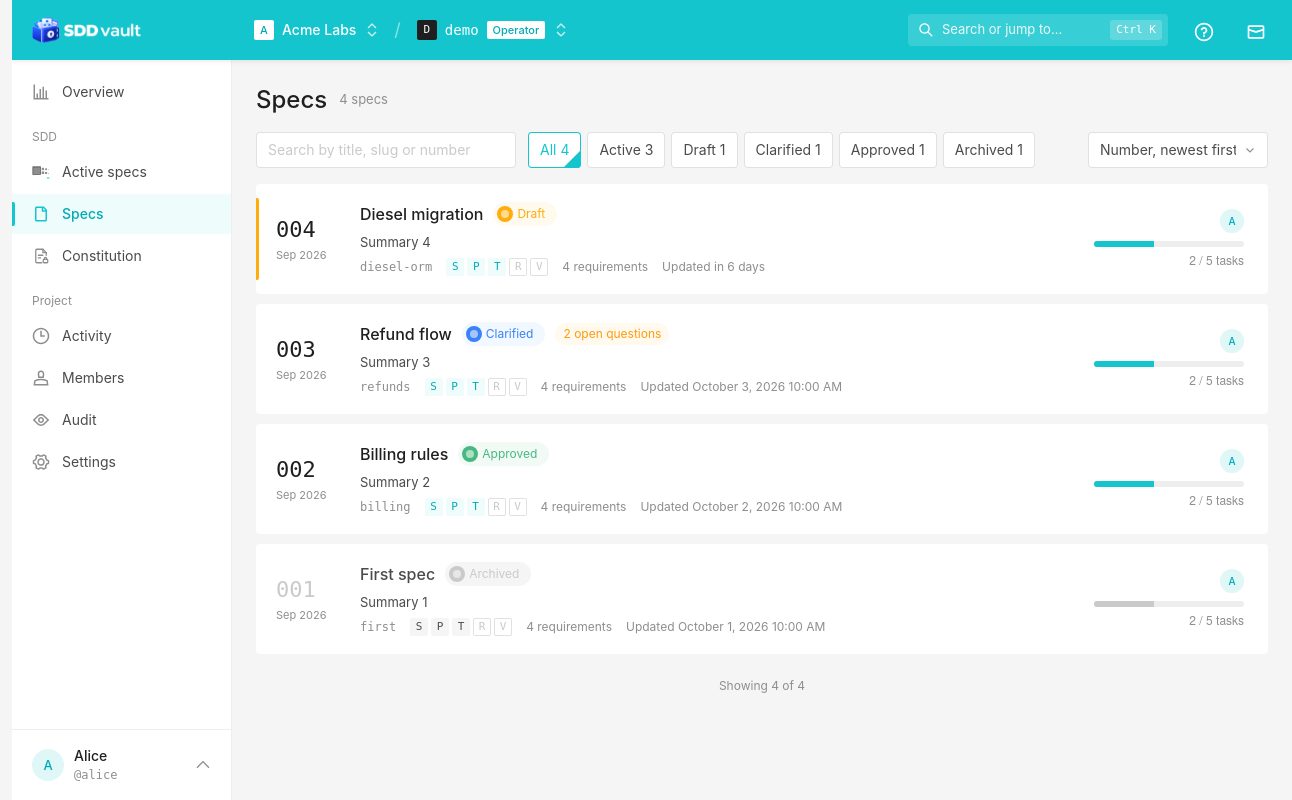
Test case: a status chip narrows the list and the active chip hides archived specs
Expected: the heading "Specs" is shown, [256,84,327,116]
Click the button "Active 3" at (626, 150), box [587,132,665,168]
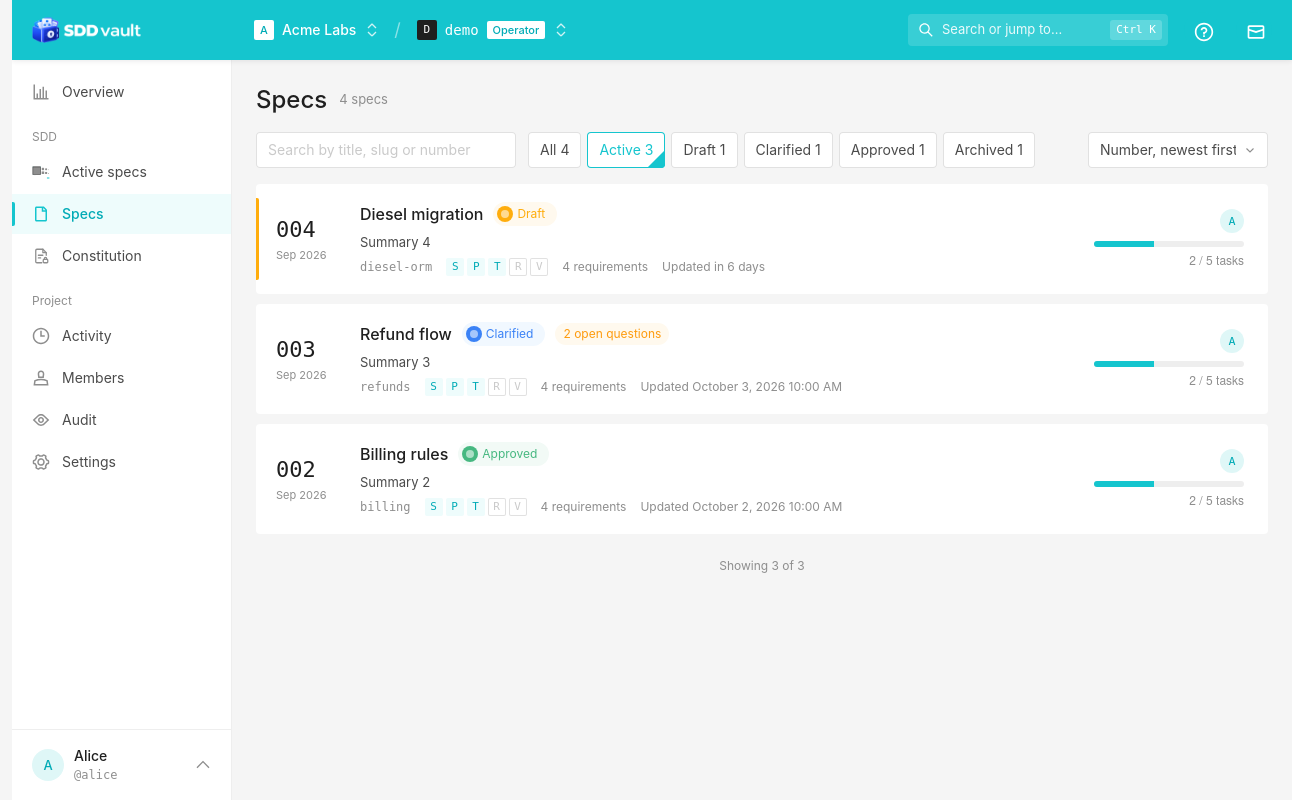
Click the button "Archived 1" at (989, 150), box [943,132,1035,168]
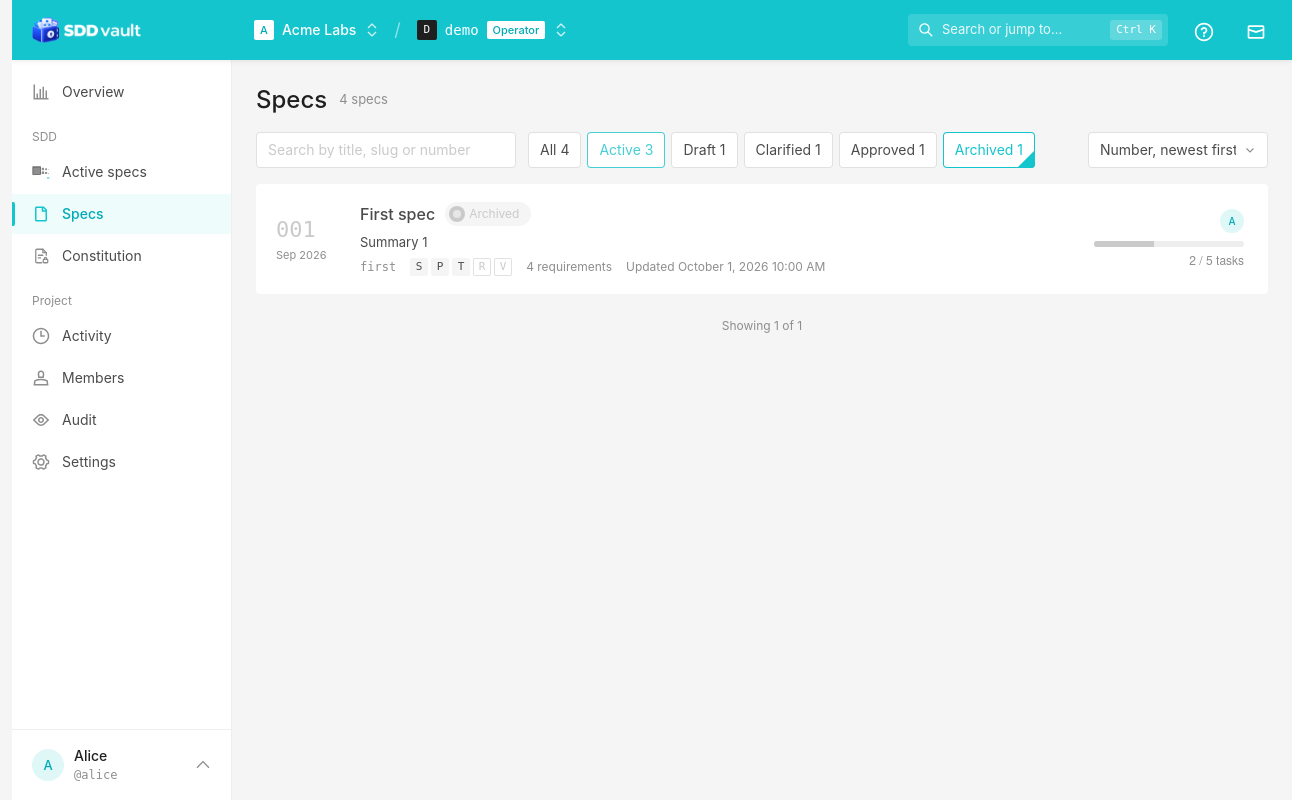
Expected: the text "Showing 1 of 1" is shown, [722,318,802,334]
